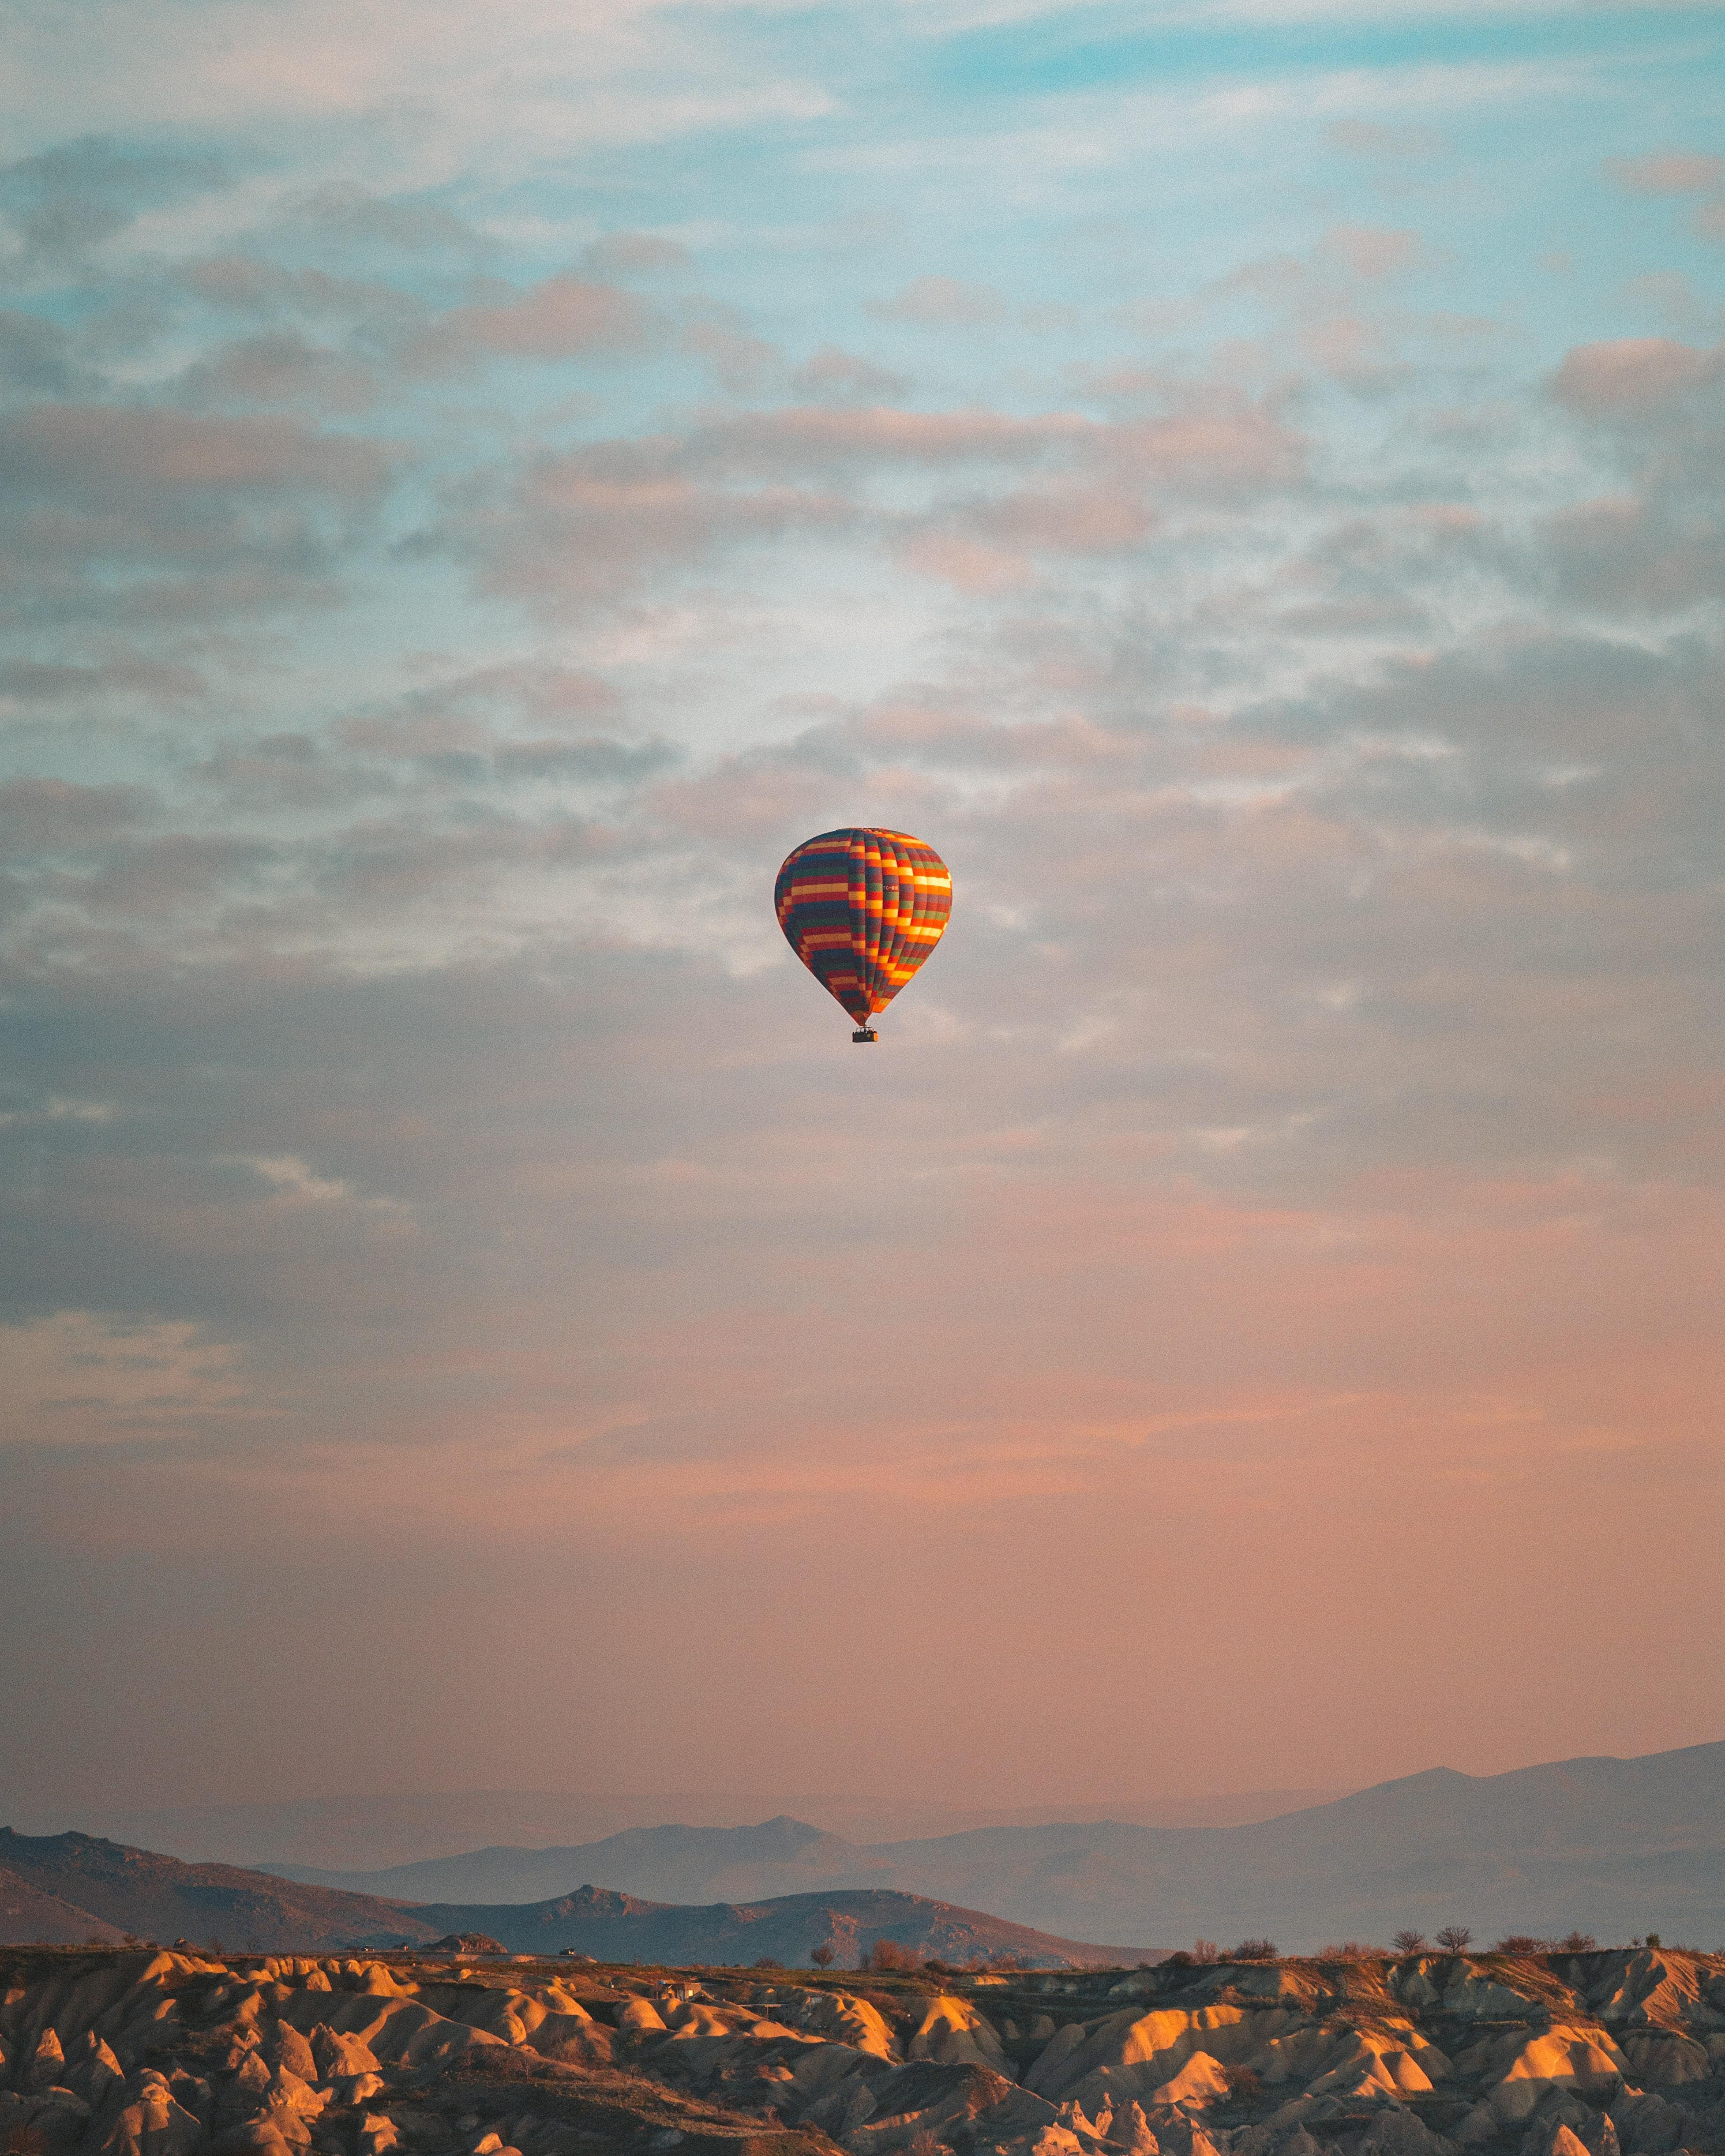hot air ballon: (773, 827, 952, 1042)
